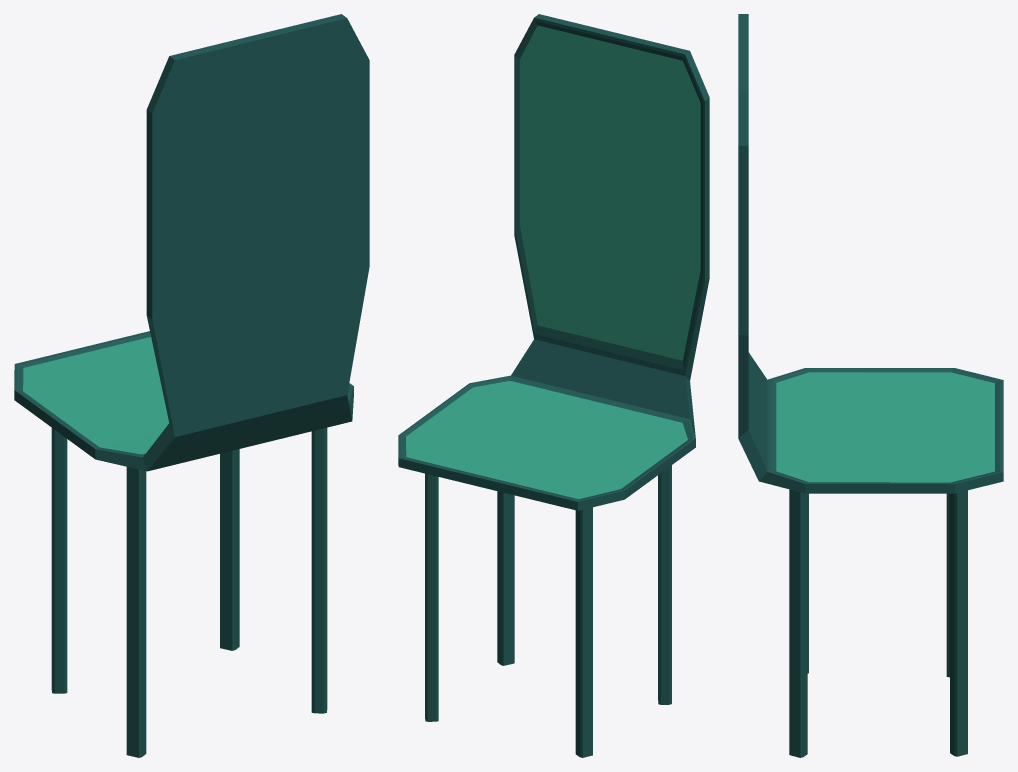
File: SillaCocina.fbx
3 renders of one model, left to right at view 1: azimuth 30°, elevation 25°; view 2: azimuth 150°, elevation 25°; view 3: azimuth 270°, elevation 25°, orthographic. The views are drawn at different scales.
Parts seen in each view (by area): view 1: SillaCocina; view 2: SillaCocina; view 3: SillaCocina.
Boxes of the visible parts, box(x1,y1,x2,y2) form: SillaCocina: box(14, 14, 369, 757); SillaCocina: box(398, 14, 709, 757); SillaCocina: box(738, 14, 1003, 757).
Size of the model in its own units: 35.1 by 93.03 by 33.88.
